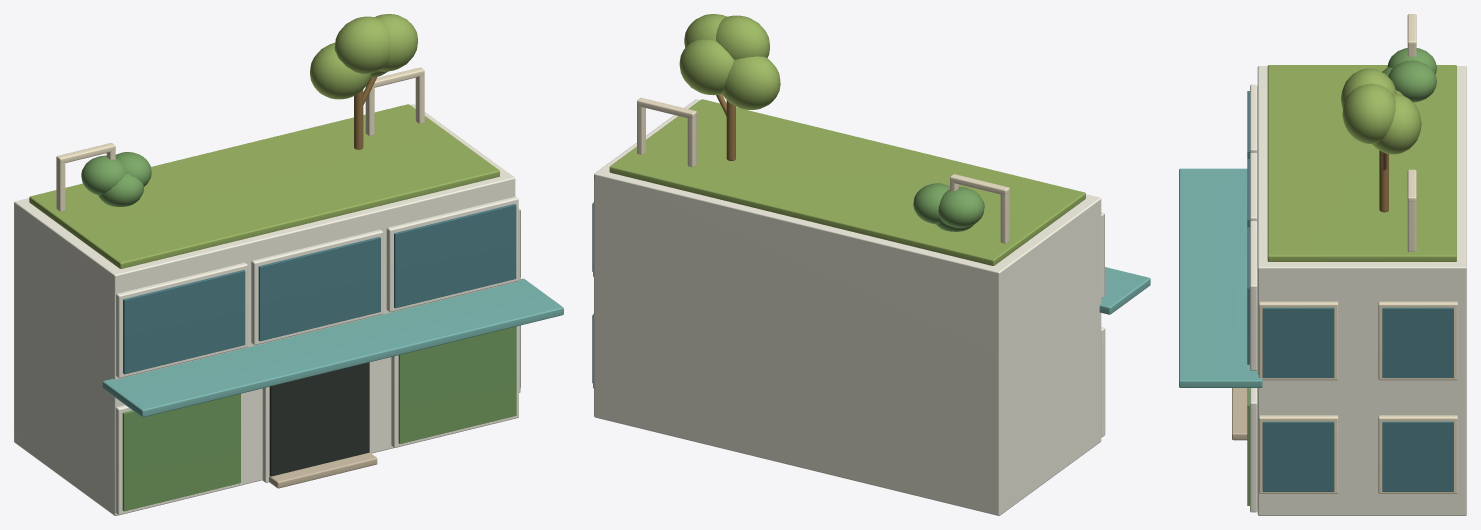
File: asset05.glb
3 renders of one model, left to right at view 1: azimuth 30°, elevation 25°; view 2: azimuth 150°, elevation 25°; view 3: azimuth 270°, elevation 25°, orthographic. The views are drawn at different scales.
Parts seen in each view (by area): view 1: 05_rooftop_garden_building; view 2: 05_rooftop_garden_building; view 3: 05_rooftop_garden_building.
Part boxes in pixels (x1,y1,x2,y2): 05_rooftop_garden_building: [14, 14, 563, 515]; 05_rooftop_garden_building: [592, 14, 1150, 515]; 05_rooftop_garden_building: [1179, 14, 1466, 515].
Bounding box in the file's own units: 1 × 0.8688 × 0.5723.
